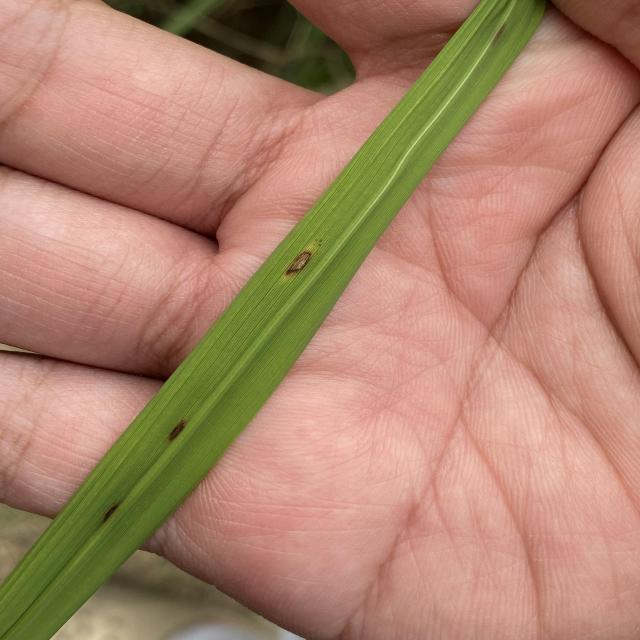Dom nau: (284, 251, 314, 277), (166, 419, 189, 444), (102, 502, 121, 525)
